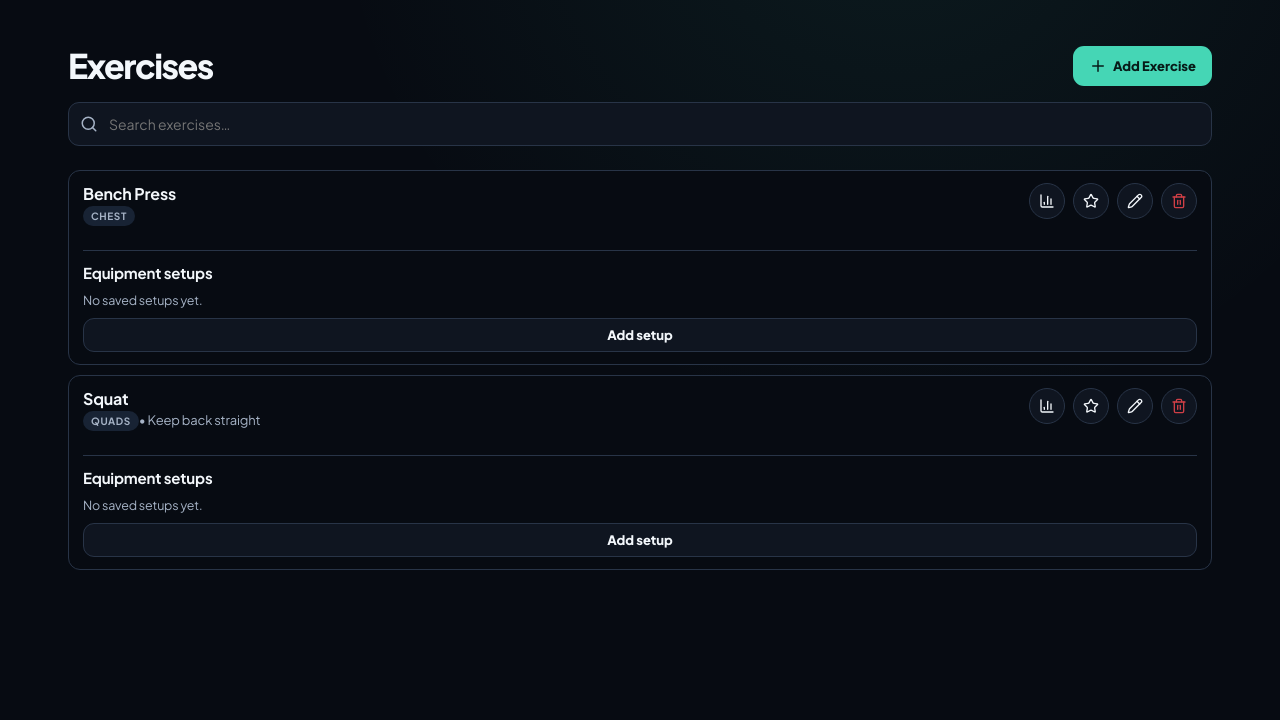
Scenario: Exercises page › opens add modal on button click
The image size is (1280, 720).
Click the button "Add Exercise" at (1142, 66), box x1=1073 y1=46 x2=1212 y2=86
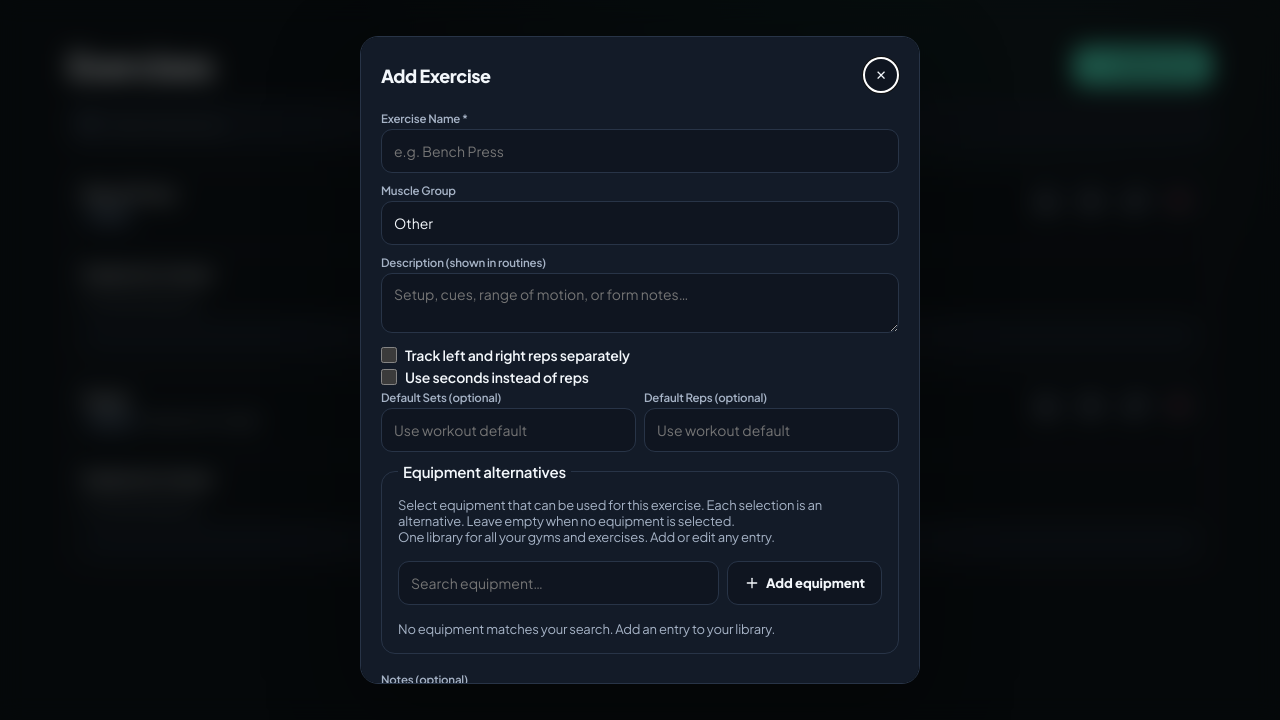
Check: the heading "Add Exercise" is shown, box x1=381 y1=64 x2=490 y2=86
Check: the field with placeholder "e.g. Bench Press" is shown, box x1=381 y1=129 x2=899 y2=173
